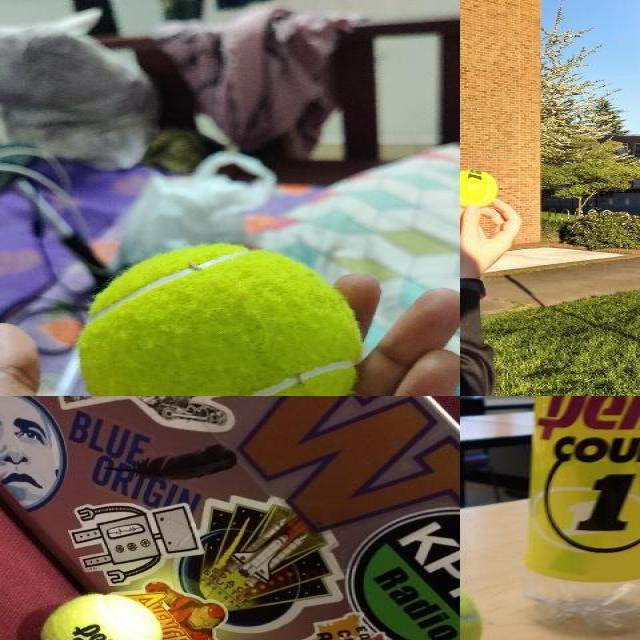tennis-ball: (75, 240, 365, 395), (37, 592, 163, 639), (460, 169, 500, 208)
